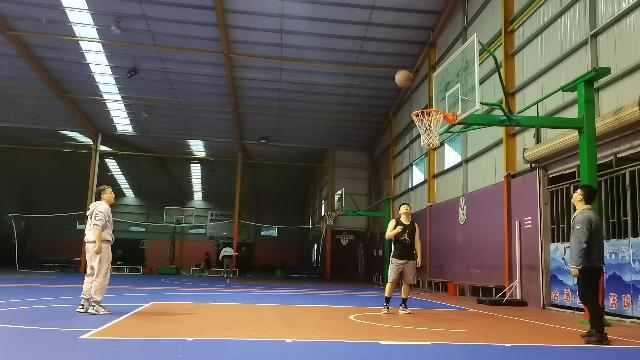ball: (393, 70, 412, 88)
basket: (410, 109, 444, 147), (324, 210, 336, 224)
